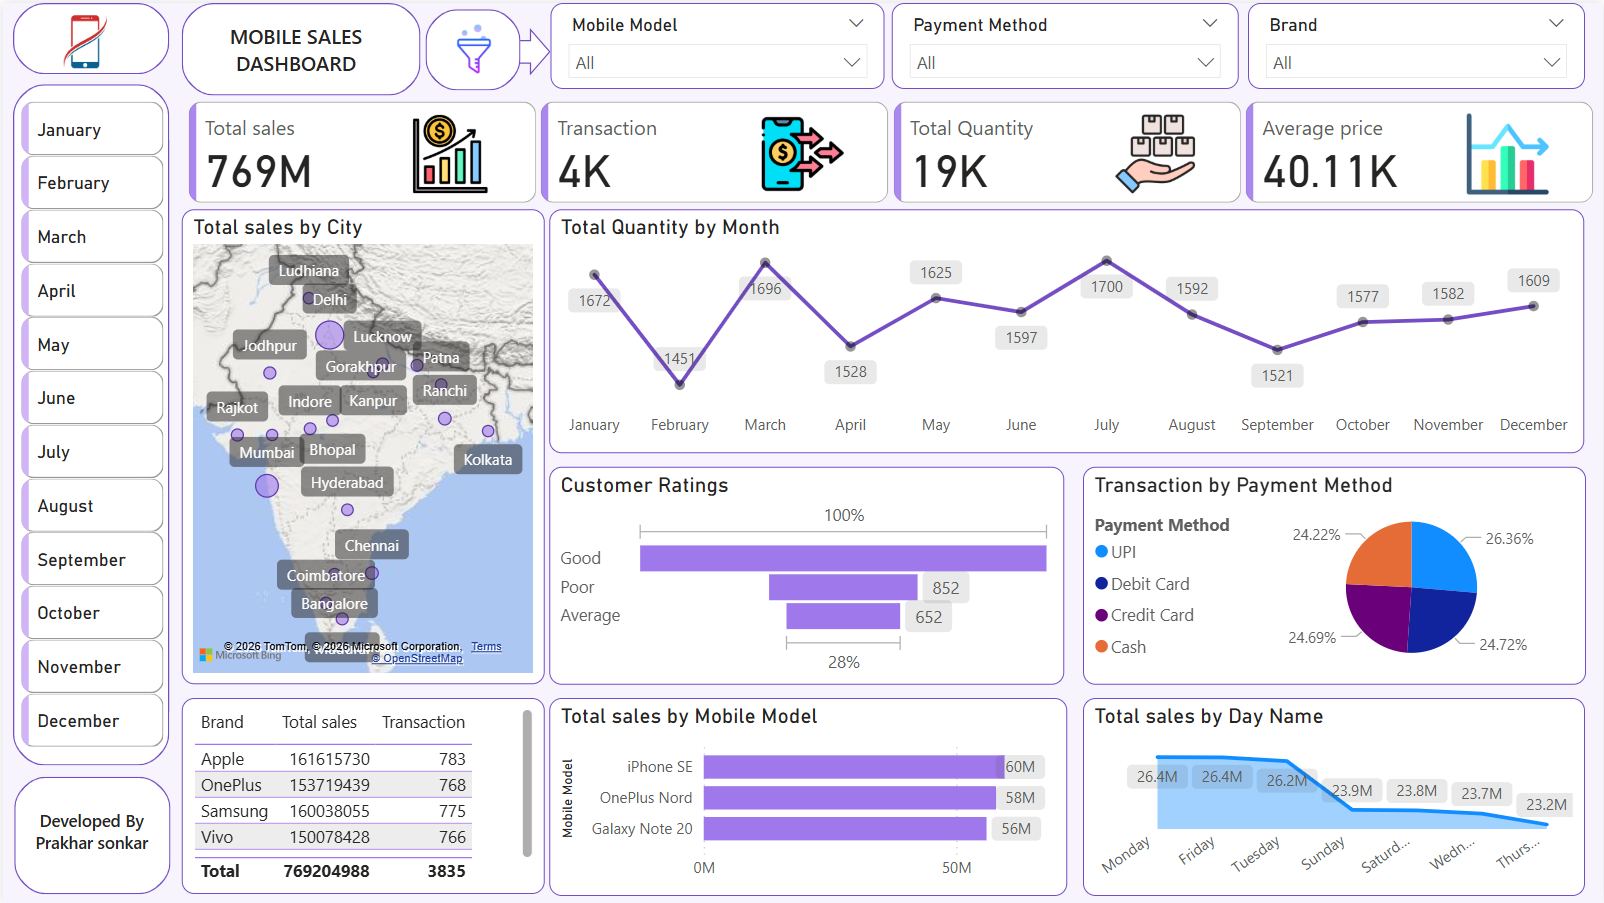

Layout of this report page (visuals, bound fields, positions):
{"tool":"powerbi","page":{"name":"Dashboard","canvas":[1280,720],"ordinal":0},"visuals":[{"type":"shape","box":[8.1,0,124.4,57],"z":0},{"type":"image","box":[43,4.7,45.3,52.3],"z":1000},{"type":"shape","box":[8.1,65.1,124.4,545.4],"z":2000},{"type":"shape","box":[9.3,618.6,124.4,94.2],"z":3000},{"type":"advancedSlicerVisual","fields":{"Values":["custom_calender.Date.Variation.Date Hierarchy.Month"]},"box":[8.8,73.8,123.8,527.5],"z":4000},{"type":"textbox","box":[15.1,639.5,110.5,53.5],"z":5000},{"type":"cardVisual","fields":{"Data":["Mobile_sales_data.Total sales","Mobile_sales_data.Transaction","Mobile_sales_data.Total Quantity","Mobile_sales_data.Average price"]},"box":[142.5,73.8,1137.5,91.2],"z":6000},{"type":"slicer","fields":{"Values":["Mobile_sales_data.Mobile Model"]},"box":[437.5,0,267.5,68.8],"z":7000},{"type":"slicer","fields":{"Values":["Mobile_sales_data.Payment Method"]},"box":[711.2,0,276.2,68.8],"z":8000},{"type":"slicer","fields":{"Values":["Mobile_sales_data.Brand"]},"box":[996.2,0,268.8,68.8],"z":9000},{"type":"shape","box":[405,20,32.5,37.5],"z":10000},{"type":"shape","box":[337.5,5,76.2,65],"z":11000},{"type":"image","box":[320,7.5,112.5,58.8],"z":12000},{"type":"shape","box":[142.5,0,191.2,73.8],"z":13000},{"type":"textbox","box":[142.5,10,182.5,56.2],"z":14000},{"type":"map","fields":{"Category":["Mobile_sales_data.City"],"Size":["Mobile_sales_data.Total sales"]},"box":[143,165.1,289.5,380.2],"z":15000},{"type":"lineChart","fields":{"Category":["custom_calender.Date.Variation.Date Hierarchy.Month"],"Y":["Mobile_sales_data.Total Quantity"]},"box":[437.2,165.1,827.9,195.3],"z":16000},{"type":"funnel","title":"Customer  Ratings ","fields":{"Y":["CountNonNull(Mobile_sales_data.Customer Ratings)"],"Category":["Mobile_sales_data.Rating Status"]},"box":[437,371,414,174],"z":17000},{"type":"pieChart","fields":{"Category":["Mobile_sales_data.Payment Method"],"Y":["Mobile_sales_data.Transaction"]},"box":[864,370.9,402.3,174.4],"z":18000},{"type":"clusteredBarChart","fields":{"Y":["Mobile_sales_data.Total sales"],"Category":["Mobile_sales_data.Mobile Model"]},"box":[437,556,414,158],"z":19000},{"type":"areaChart","fields":{"Y":["Mobile_sales_data.Total sales"],"Category":["custom_calender.Day Name"]},"box":[864.5,555.7,400.7,157.8],"z":20000},{"type":"tableEx","fields":{"Values":["Mobile_sales_data.Brand","Mobile_sales_data.Total sales","Mobile_sales_data.Transaction"]},"box":[143,555.8,289.5,157],"z":20001}]}

Visuals, with their boxes in screenshot pixels (x1, y1, x2, y2), scaled from the page's 1280x720 canvas onto the 1604x903 screenshot:
shape: bbox(10, 0, 166, 71)
image: bbox(54, 6, 111, 71)
shape: bbox(10, 82, 166, 766)
shape: bbox(12, 776, 168, 894)
advancedSlicerVisual - custom_calender.Date.Variation.Date Hierarchy.Month: bbox(11, 93, 166, 754)
textbox: bbox(19, 802, 157, 869)
cardVisual - Mobile_sales_data.Total sales x Mobile_sales_data.Transaction: bbox(179, 93, 1603, 207)
slicer - Mobile_sales_data.Mobile Model: bbox(548, 0, 883, 86)
slicer - Mobile_sales_data.Payment Method: bbox(891, 0, 1237, 86)
slicer - Mobile_sales_data.Brand: bbox(1248, 0, 1585, 86)
shape: bbox(508, 25, 548, 72)
shape: bbox(423, 6, 518, 88)
image: bbox(401, 9, 542, 83)
shape: bbox(179, 0, 418, 93)
textbox: bbox(179, 13, 407, 83)
map - Mobile_sales_data.City x Mobile_sales_data.Total sales: bbox(179, 207, 542, 684)
lineChart - custom_calender.Date.Variation.Date Hierarchy.Month x Mobile_sales_data.Total Quantity: bbox(548, 207, 1585, 452)
"Customer  Ratings " funnel: bbox(548, 465, 1066, 684)
pieChart - Mobile_sales_data.Payment Method x Mobile_sales_data.Transaction: bbox(1083, 465, 1587, 684)
clusteredBarChart - Mobile_sales_data.Total sales x Mobile_sales_data.Mobile Model: bbox(548, 697, 1066, 895)
areaChart - Mobile_sales_data.Total sales x custom_calender.Day Name: bbox(1083, 697, 1585, 895)
tableEx - Mobile_sales_data.Brand x Mobile_sales_data.Total sales: bbox(179, 697, 542, 894)
